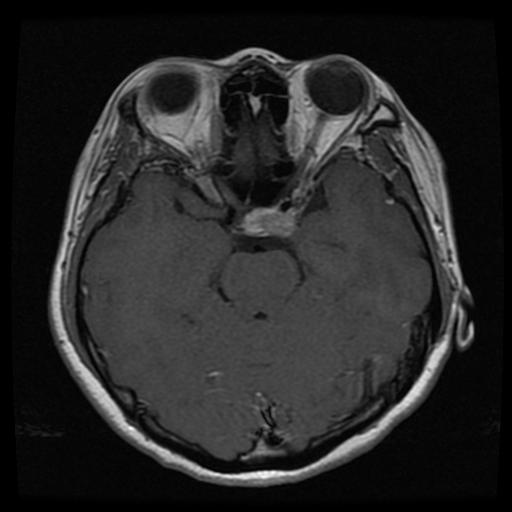Pituirity_tumour: (239, 206, 300, 235)
